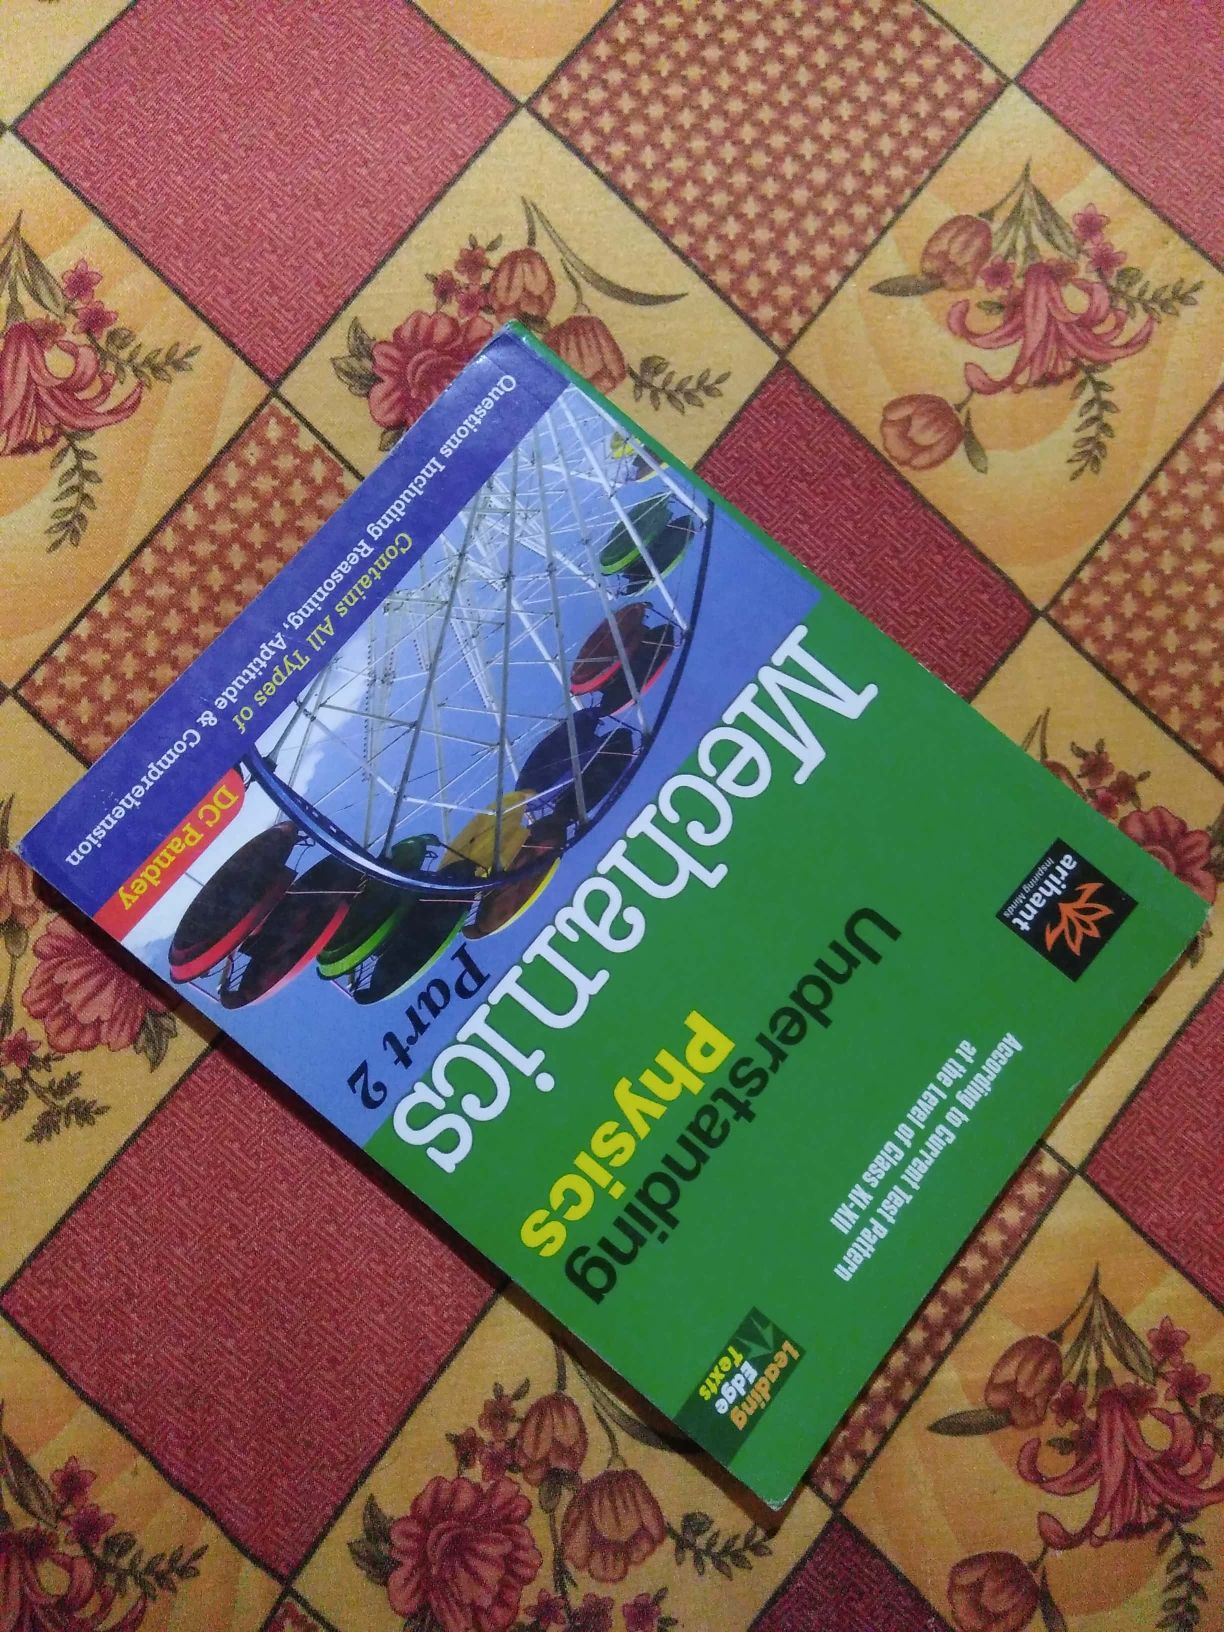mechanics: (51, 361, 1193, 1473)
